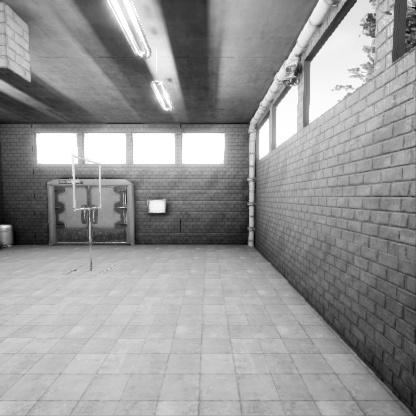gate: (71, 207, 101, 263)
